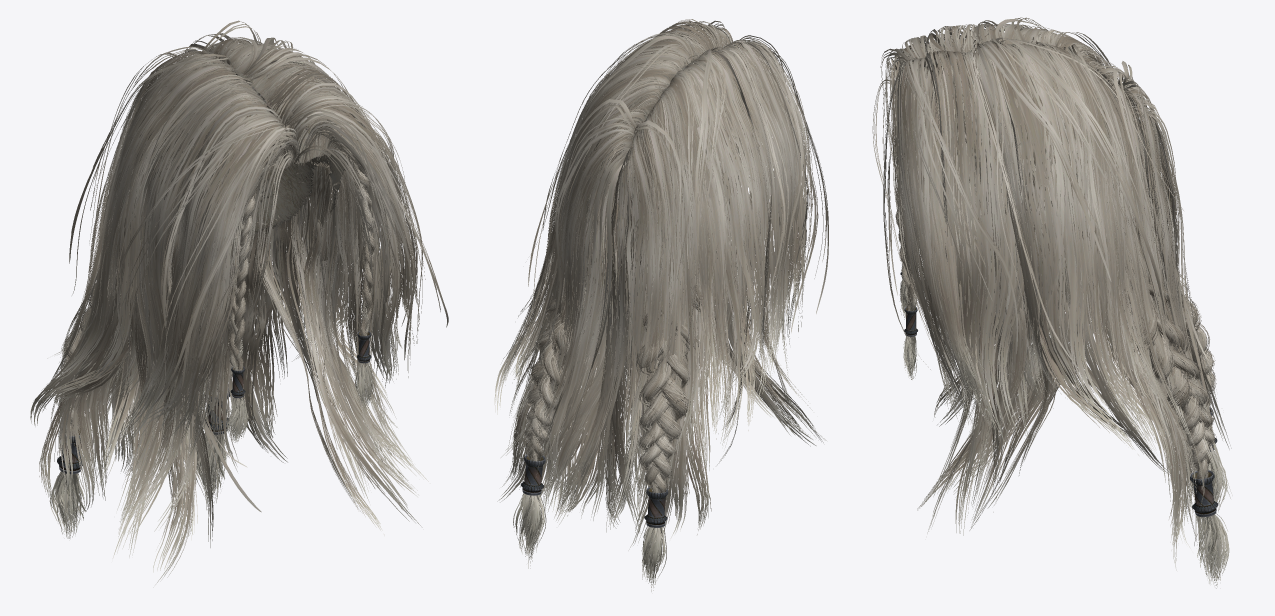
File: dint_hair_23.glb
3 renders of one model, left to right at view 1: azimuth 30°, elevation 25°; view 2: azimuth 150°, elevation 25°; view 3: azimuth 270°, elevation 25°, orthographic. The views are drawn at different scales.
Visible parts, largest first — view 1: 1base23_1base23, 1down_1down, 1down23_1down23, 1base_1base, 1light23_1light23, 1light_1light, 1HL23_1HL23, 1brL21_1brL21, 1lightF23_1lightF23, 1brR1_1brR1, 1braidBackL231_1braidBackL231, 1braidBackR231_1braidBackR231 (+2 smaller); view 2: 1base23_1base23, 1base_1base, 1down23_1down23, 1light23_1light23, 1down_1down, 1braidBackL231_1braidBackL231, 1light_1light, 1braidBackR231_1braidBackR231, 1braidBackL232_1braidBackL232, 1braidBackR232_1braidBackR232, 1HL23_1HL23, 1braidBackR23metal_1braidBackR23metal (+1 smaller); view 3: 1base_1base, 1down_1down, 1light_1light, 1braidBackR231_1braidBackR231, 1base23_1base23, 1light23_1light23, 1braidBackR232_1braidBackR232, 1down23_1down23, 1braidBackL231_1braidBackL231, 1brR1_1brR1, 1braidBackR23metal_1braidBackR23metal, 1HL23_1HL23 (+2 smaller).
Part boxes in pixels (x1=…): 1base23_1base23: x1=41, y1=51, x2=298, y2=531; 1down_1down: x1=168, y1=43, x2=430, y2=535; 1down23_1down23: x1=30, y1=53, x2=261, y2=587; 1base_1base: x1=157, y1=38, x2=422, y2=485; 1light23_1light23: x1=69, y1=46, x2=354, y2=426; 1light_1light: x1=139, y1=20, x2=448, y2=512; 1HL23_1HL23: x1=134, y1=57, x2=348, y2=250; 1brL21_1brL21: x1=226, y1=154, x2=278, y2=442; 1lightF23_1lightF23: x1=228, y1=144, x2=387, y2=318; 1brR1_1brR1: x1=316, y1=130, x2=375, y2=408; 1braidBackL231_1braidBackL231: x1=49, y1=236, x2=130, y2=538; 1braidBackR231_1braidBackR231: x1=193, y1=176, x2=279, y2=509; 1base23_1base23: x1=567, y1=40, x2=812, y2=520; 1base_1base: x1=501, y1=19, x2=732, y2=518; 1down23_1down23: x1=598, y1=54, x2=826, y2=550; 1light23_1light23: x1=550, y1=35, x2=828, y2=483; 1down_1down: x1=494, y1=43, x2=704, y2=526; 1braidBackL231_1braidBackL231: x1=636, y1=231, x2=702, y2=591; 1light_1light: x1=528, y1=20, x2=770, y2=358; 1braidBackR231_1braidBackR231: x1=513, y1=212, x2=598, y2=568; 1braidBackL232_1braidBackL232: x1=633, y1=230, x2=706, y2=492; 1braidBackR232_1braidBackR232: x1=523, y1=217, x2=595, y2=461; 1HL23_1HL23: x1=585, y1=54, x2=760, y2=227; 1braidBackR23metal_1braidBackR23metal: x1=520, y1=454, x2=545, y2=495; 1base_1base: x1=891, y1=42, x2=1220, y2=518; 1down_1down: x1=917, y1=54, x2=1232, y2=570; 1light_1light: x1=872, y1=37, x2=1207, y2=417; 1braidBackR231_1braidBackR231: x1=1088, y1=240, x2=1229, y2=588; 1base23_1base23: x1=888, y1=23, x2=1216, y2=479; 1light23_1light23: x1=880, y1=17, x2=1222, y2=435; 1braidBackR232_1braidBackR232: x1=1082, y1=227, x2=1216, y2=478; 1down23_1down23: x1=934, y1=37, x2=1231, y2=490; 1braidBackL231_1braidBackL231: x1=1177, y1=283, x2=1227, y2=511; 1brR1_1brR1: x1=895, y1=152, x2=917, y2=379; 1braidBackR23metal_1braidBackR23metal: x1=1190, y1=470, x2=1218, y2=517; 1HL23_1HL23: x1=931, y1=50, x2=1126, y2=244.
Bounding box in the file's own units: 0.3224 × 0.4876 × 0.3179.
Materials: 20 (20 with a texture image).
